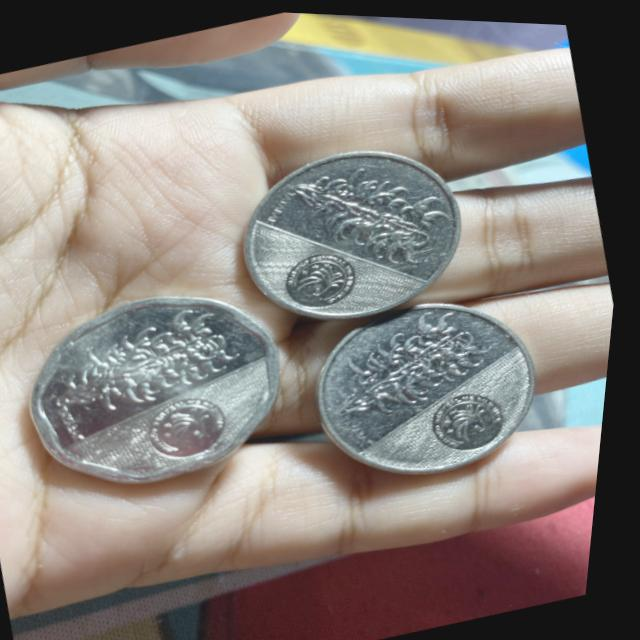5_New_Back: (59, 302, 250, 430), (282, 141, 455, 278), (325, 299, 498, 429)
